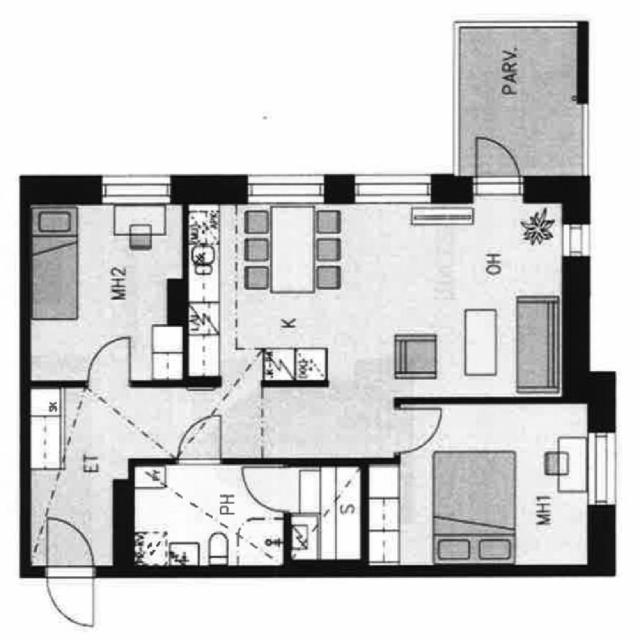door: (477, 130, 519, 204), (46, 566, 92, 625), (46, 517, 92, 576), (87, 336, 130, 388), (177, 414, 220, 465), (242, 468, 291, 511), (394, 409, 441, 453)
